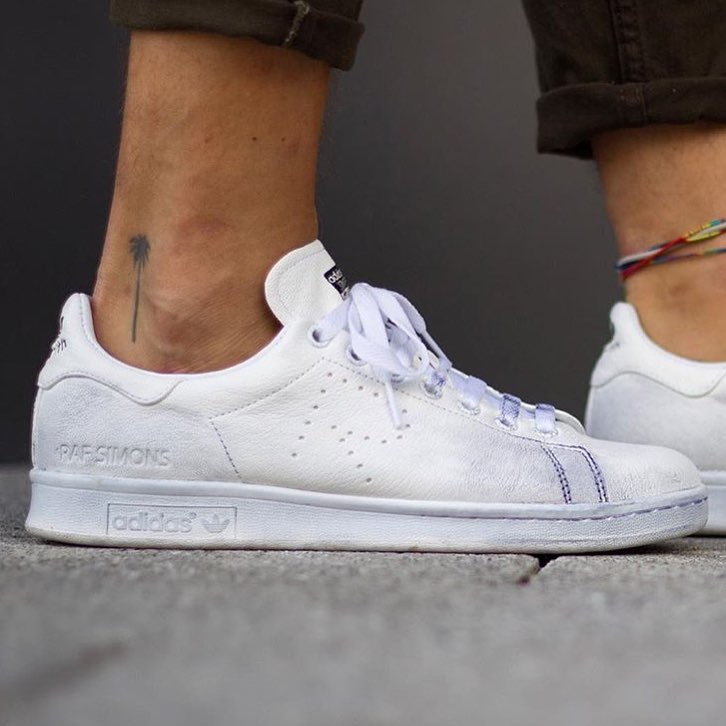sneaker: (4, 221, 719, 568), (546, 279, 726, 566)
